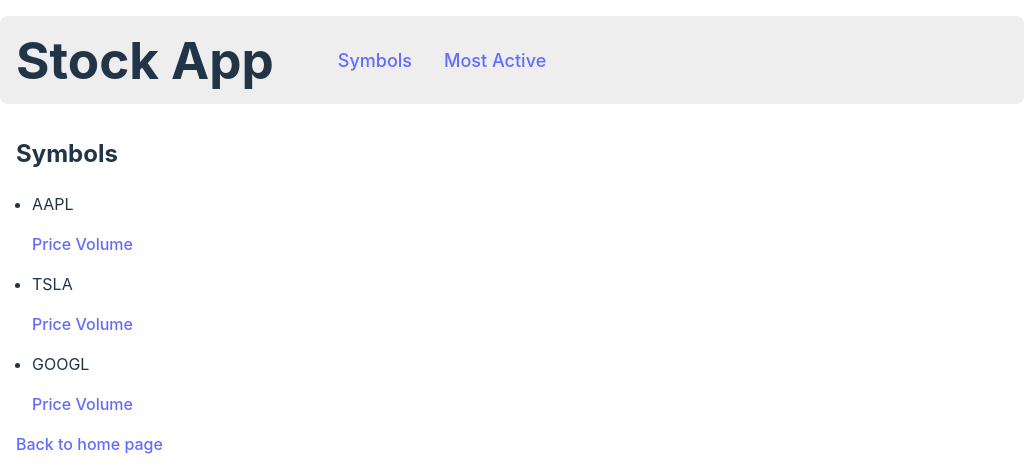
Test: Symbols › clicking the back link returns to the home screen
What coordinates should you click on to do the following:
click the link with test id "back-link"
I would click on:
 (89, 444)
Its box is [16,434,163,454].
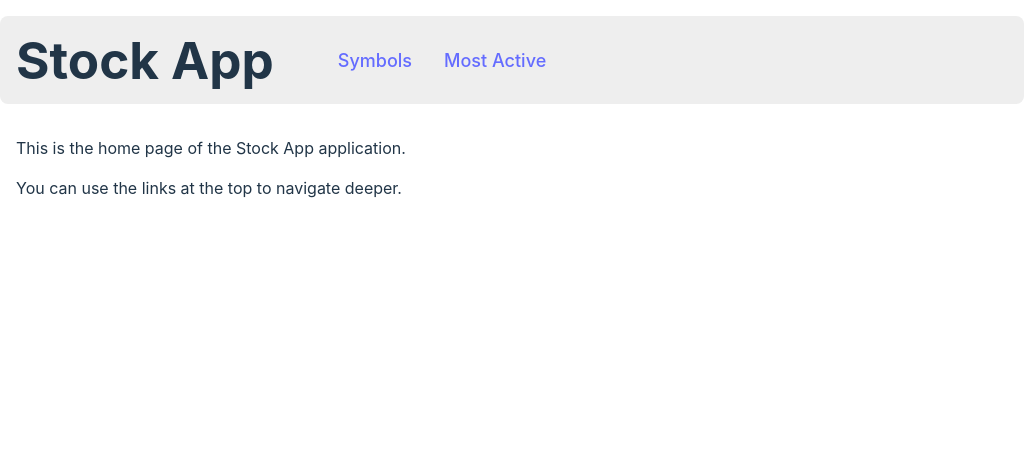
Check: the element with test id "home" is shown, box [16,138,406,198]
